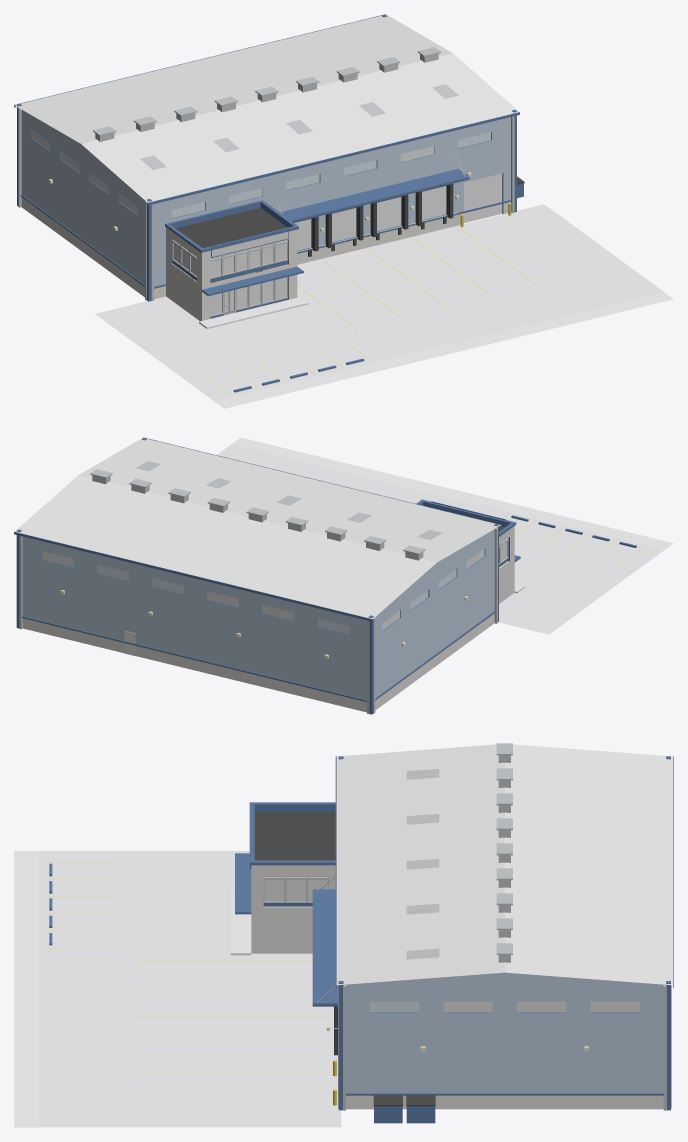
The model's file is industrial_wh130.glb.
The picture shows the model from 3 angles, top to bottom: view 1: azimuth 30°, elevation 25°; view 2: azimuth 150°, elevation 25°; view 3: azimuth 270°, elevation 25°; orthographic projection. The views are drawn at different scales.
Visible parts, largest first — view 1: industrial_wh130_Asphalt, industrial_wh130_Roof, industrial_wh130_Walls, industrial_wh130_Trim, industrial_wh130_Walls2, industrial_wh130_Site, industrial_wh130_Roof2, industrial_wh130_Doors, industrial_wh130_Details, industrial_wh130_WindowsLit, industrial_wh130_Frames, industrial_wh130_Glass (+2 smaller); view 2: industrial_wh130_Roof, industrial_wh130_Walls, industrial_wh130_Asphalt, industrial_wh130_Walls2, industrial_wh130_Trim, industrial_wh130_Site, industrial_wh130_Details, industrial_wh130_WindowsLit, industrial_wh130_Glass, industrial_wh130_Frames; view 3: industrial_wh130_Roof, industrial_wh130_Asphalt, industrial_wh130_Walls, industrial_wh130_Trim, industrial_wh130_Walls2, industrial_wh130_Site, industrial_wh130_Roof2, industrial_wh130_Details, industrial_wh130_WindowsLit, industrial_wh130_Frames, industrial_wh130_Paint, industrial_wh130_Glass.
Part boxes in pixels (x1,y1,x2,y2): industrial_wh130_Asphalt: (95, 204, 663, 401); industrial_wh130_Roof: (14, 14, 518, 202); industrial_wh130_Walls: (21, 110, 510, 286); industrial_wh130_Trim: (14, 14, 523, 392); industrial_wh130_Walls2: (21, 197, 510, 321); industrial_wh130_Site: (199, 292, 673, 408); industrial_wh130_Roof2: (176, 176, 524, 256); industrial_wh130_Doors: (294, 173, 502, 250); industrial_wh130_Details: (18, 47, 514, 306); industrial_wh130_WindowsLit: (31, 129, 433, 315); industrial_wh130_Frames: (140, 84, 458, 316); industrial_wh130_Glass: (61, 132, 490, 217); industrial_wh130_Roof: (14, 437, 500, 618); industrial_wh130_Walls: (22, 529, 494, 700); industrial_wh130_Asphalt: (217, 444, 663, 634); industrial_wh130_Walls2: (22, 526, 514, 712); industrial_wh130_Trim: (14, 437, 636, 714); industrial_wh130_Site: (232, 437, 673, 593); industrial_wh130_Details: (19, 469, 497, 713); industrial_wh130_WindowsLit: (42, 542, 507, 630); industrial_wh130_Glass: (97, 564, 456, 633); industrial_wh130_Frames: (135, 461, 508, 564); industrial_wh130_Roof: (336, 744, 673, 985); industrial_wh130_Asphalt: (38, 851, 341, 1127); industrial_wh130_Walls: (344, 972, 665, 1093); industrial_wh130_Trim: (49, 756, 673, 1123); industrial_wh130_Walls2: (251, 865, 663, 1109); industrial_wh130_Site: (14, 851, 251, 1127); industrial_wh130_Roof2: (254, 812, 435, 1106); industrial_wh130_Details: (317, 743, 671, 1110); industrial_wh130_WindowsLit: (264, 876, 639, 1012); industrial_wh130_Frames: (263, 769, 439, 959); industrial_wh130_Paint: (42, 862, 332, 1072); industrial_wh130_Glass: (370, 1001, 418, 1012).
Bounding box in the file's own units: 160 × 40.53 × 161.
